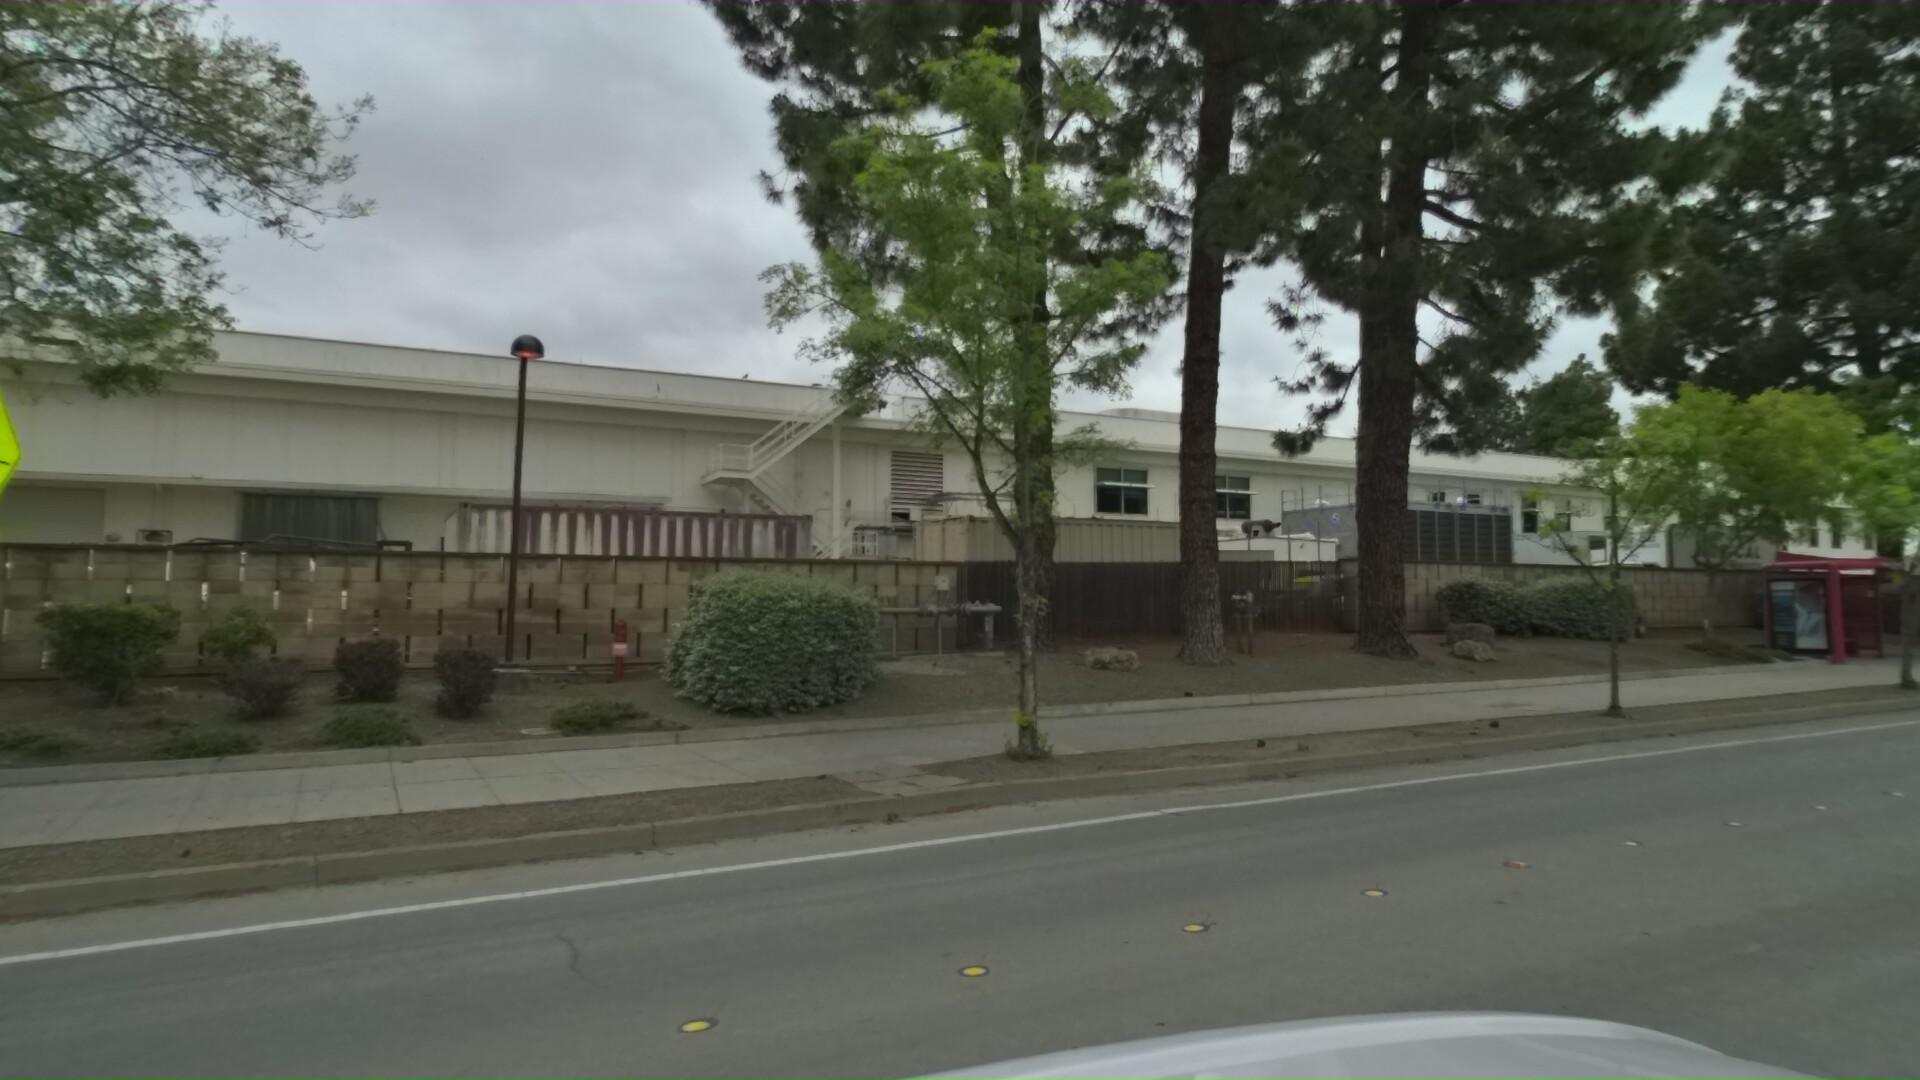truck: (1560, 516, 1785, 618)
